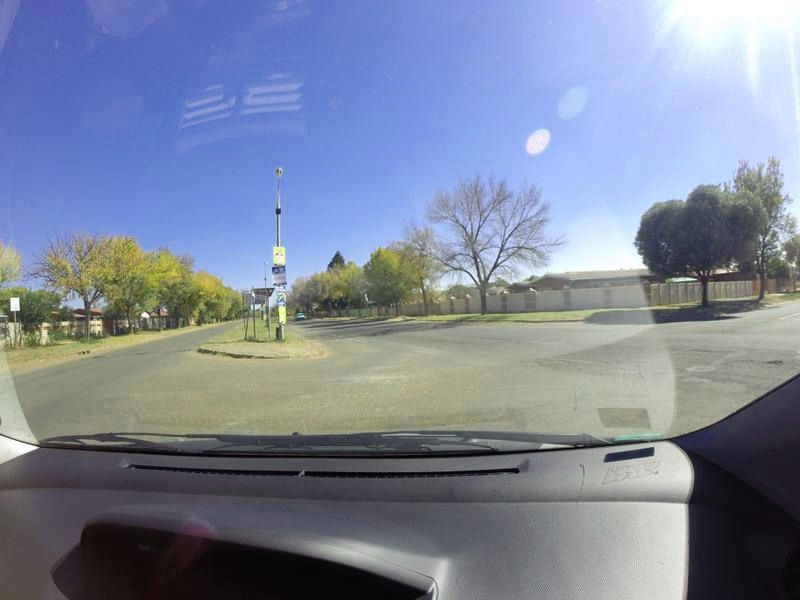pothole: (769, 358, 782, 364)
